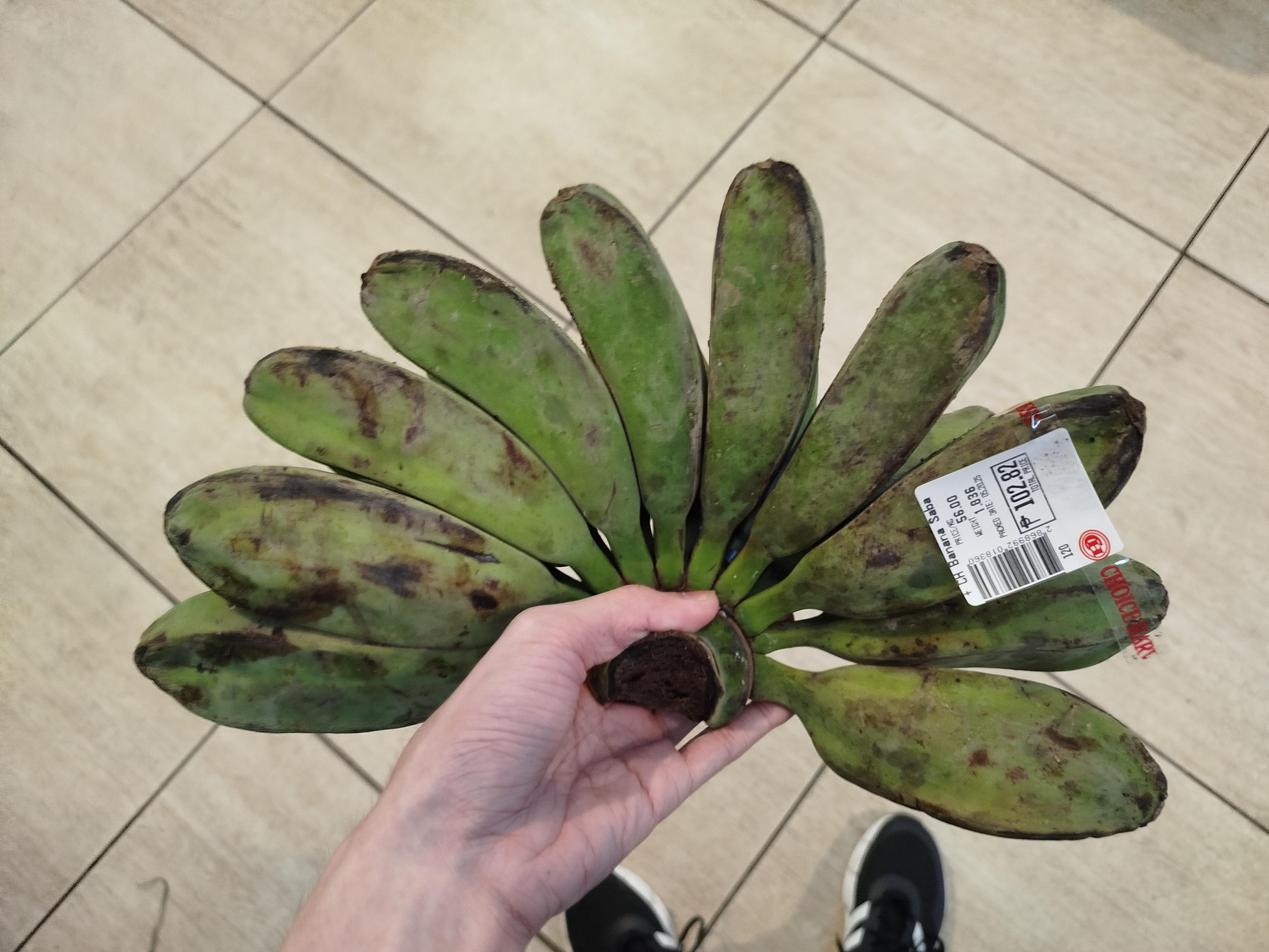underripe: (135, 160, 1167, 839)
